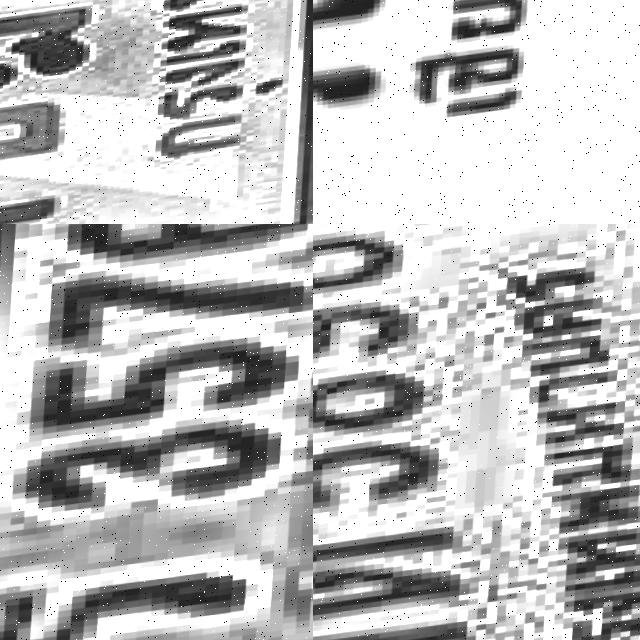license-plate: (313, 224, 640, 640), (0, 224, 313, 640), (313, 0, 640, 224), (0, 0, 313, 224)
